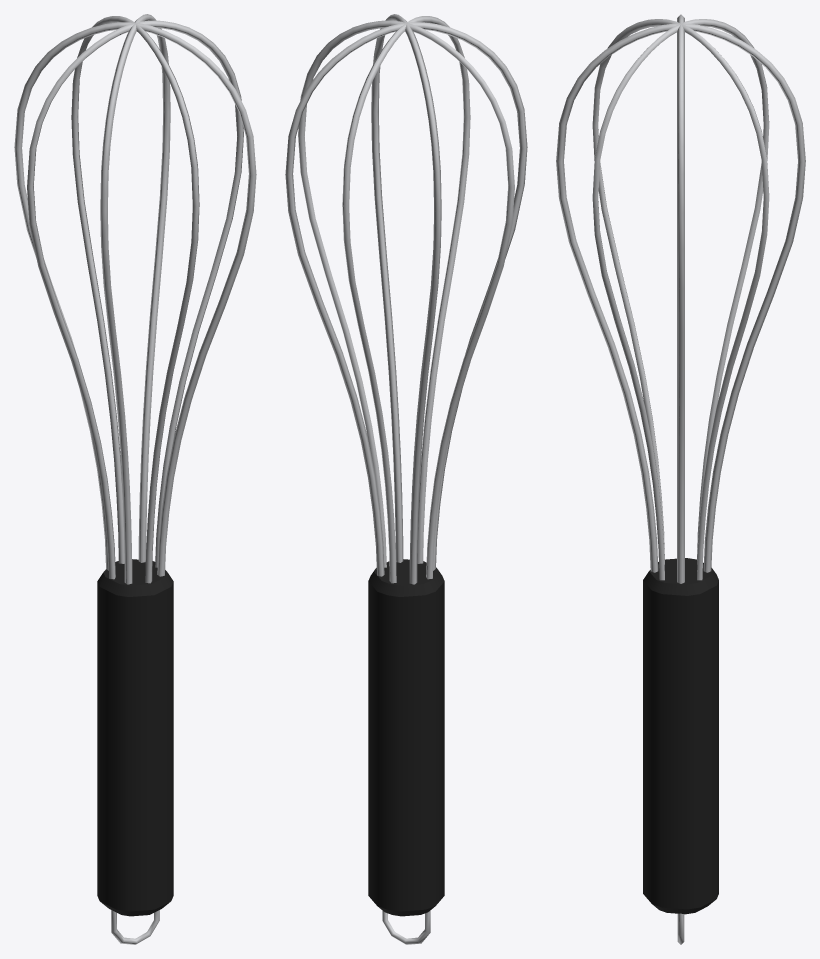
File: whisk.FBX
3 renders of one model, left to right at view 1: azimuth 30°, elevation 25°; view 2: azimuth 150°, elevation 25°; view 3: azimuth 270°, elevation 25°, orthographic.
Visible parts, largest first — view 1: Cylinder001; view 2: Cylinder001; view 3: Cylinder001.
Part boxes in pixels (box(x1,y1,x2,y2)): Cylinder001: box(14, 14, 256, 944); Cylinder001: box(285, 14, 527, 944); Cylinder001: box(556, 14, 805, 944).
Size of the model in its own units: 7.1 by 28.81 by 7.1.
1 material, 1 textured.
